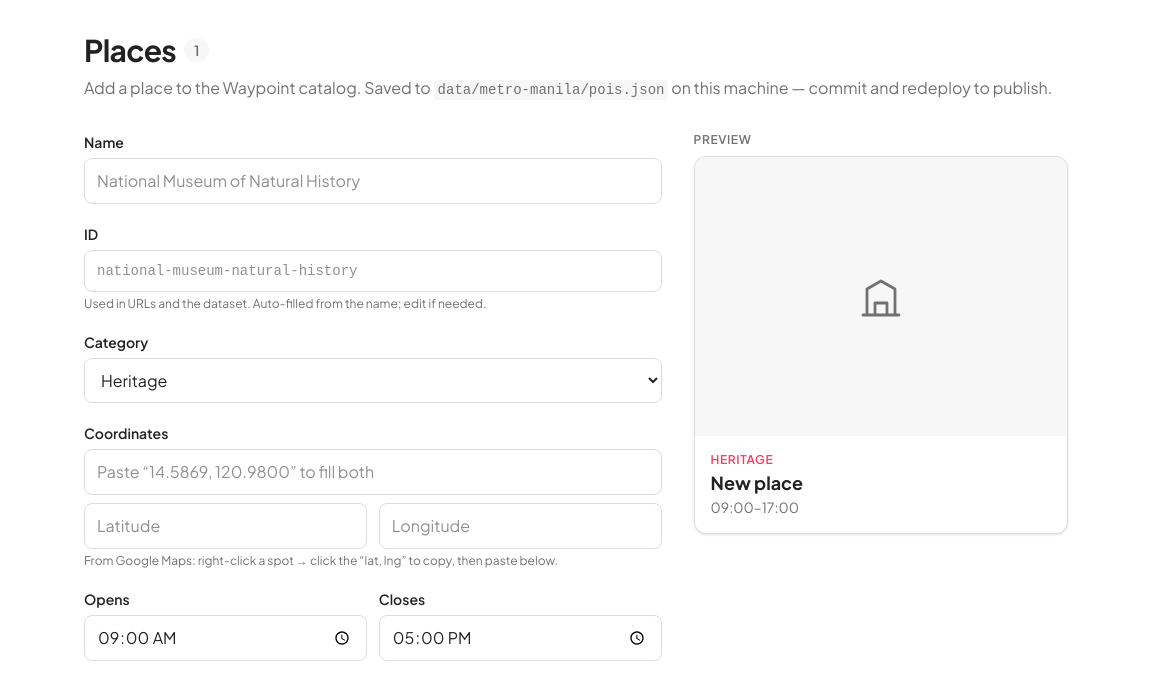
Scenario: AdminDashboard › shows a network-failure message when the request cannot reach the server
Type "Rizal Park" into the field labelled "Name" at (373, 181), box [84,158,662,204]
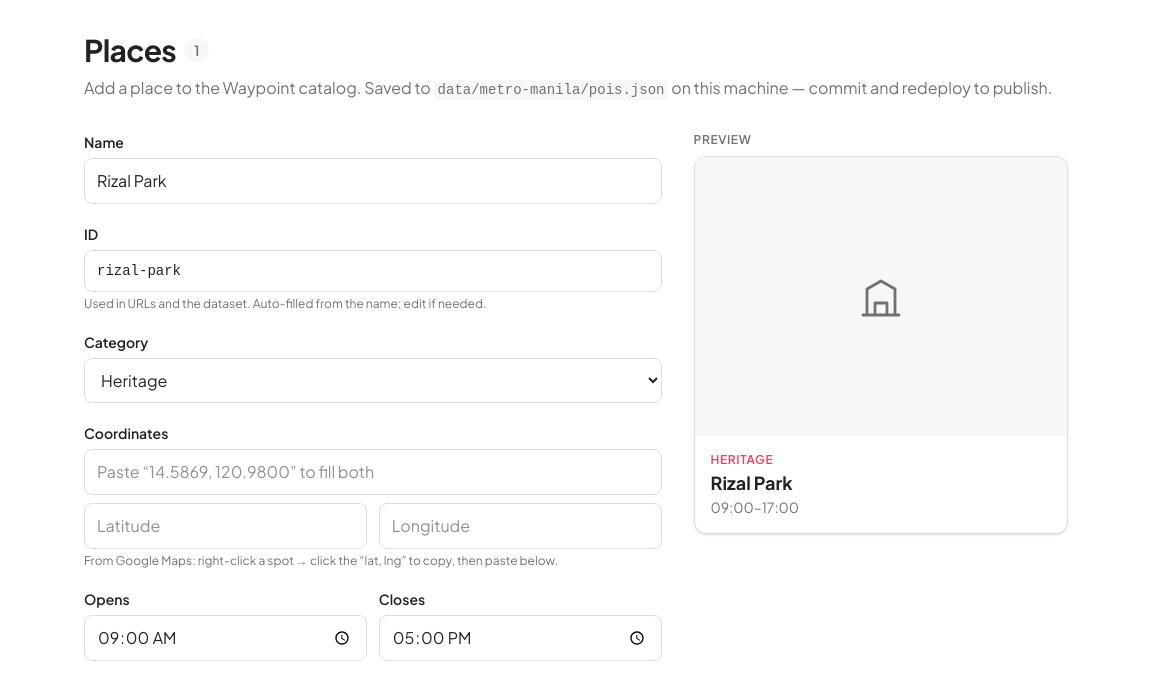
Type "14.5831" into the field labelled "Latitude" at (225, 526), box [84,503,367,549]
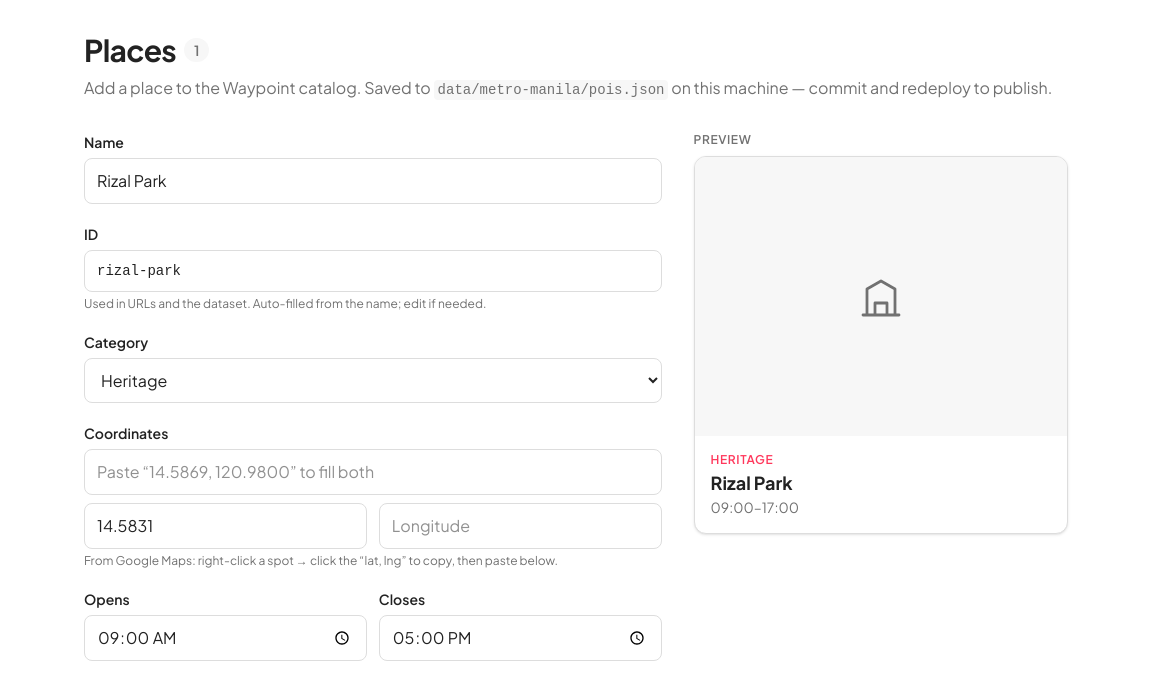
Type "120.9794" into the field labelled "Longitude" at (520, 526), box [379,503,662,549]
(page scrolled)
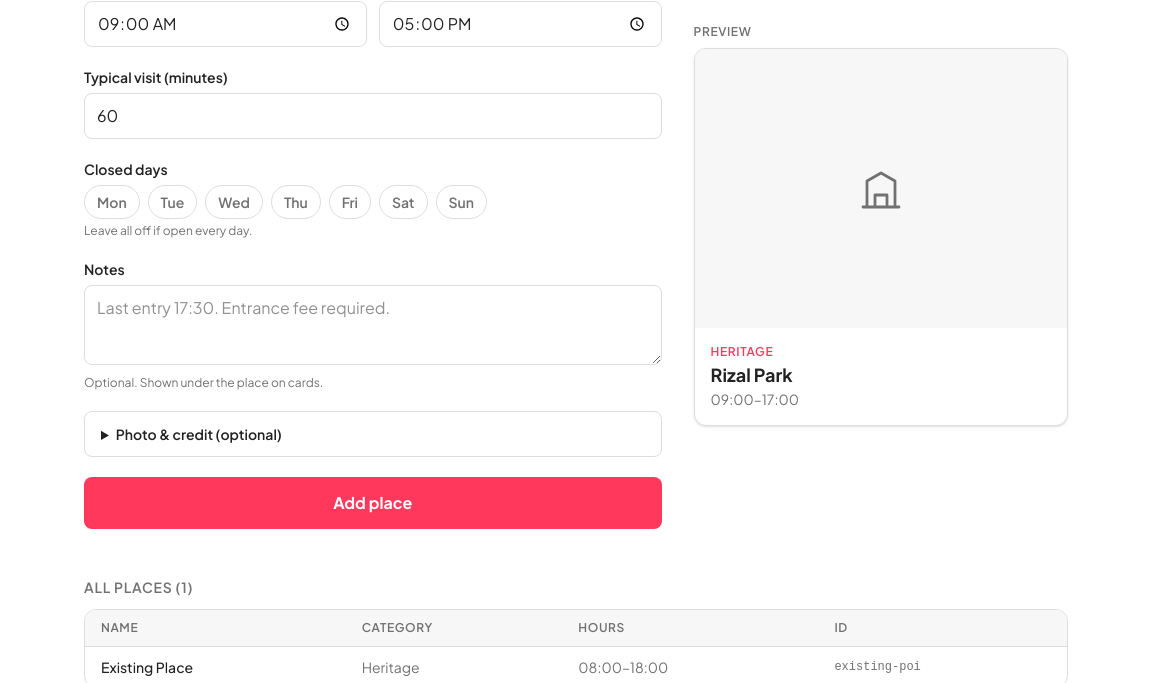
Click the button "Add place" at (373, 503), box [84,477,662,529]
(page scrolled)
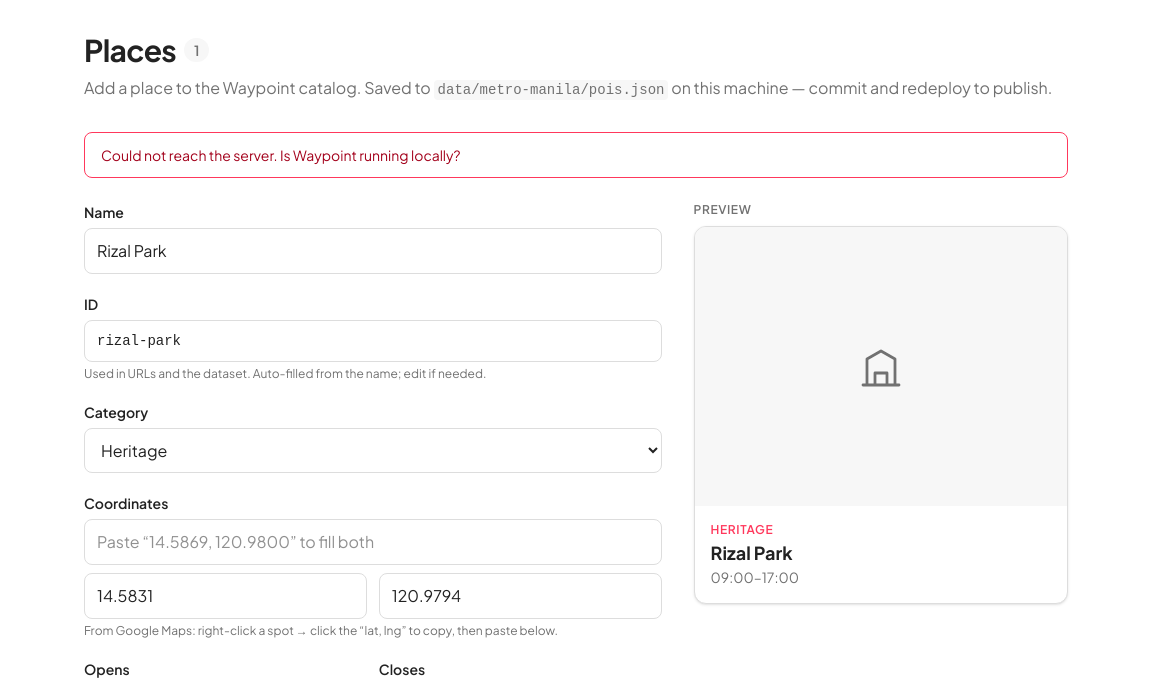
Now the text "Could not reach the server. Is Waypoint running locally?" is shown, box [84,132,1068,178]
